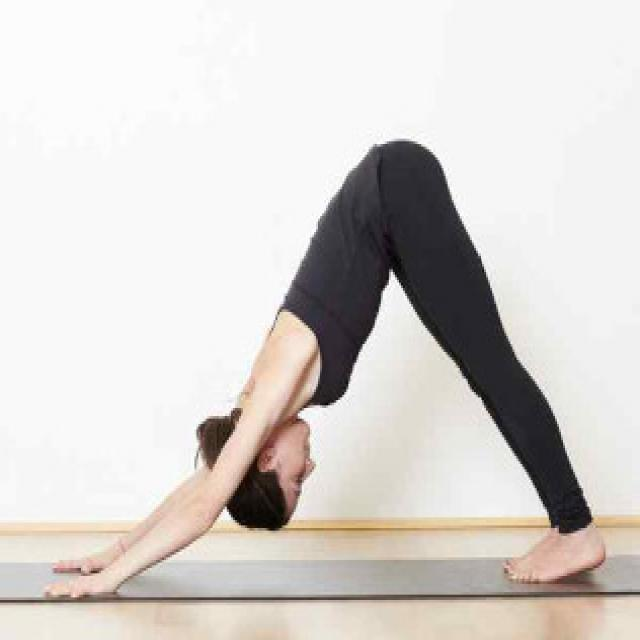yoga-pose downward: (38, 137, 610, 597)
